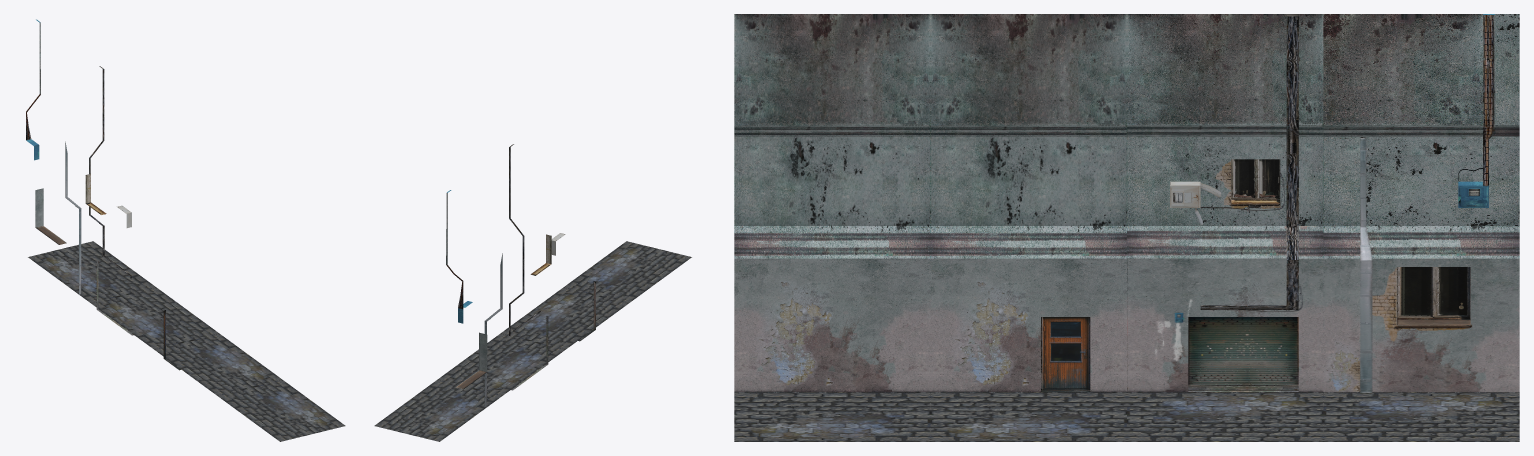
File: street-frontages.glb
3 renders of one model, left to right at view 1: azimuth 30°, elevation 25°; view 2: azimuth 150°, elevation 25°; view 3: azimuth 270°, elevation 25°, orthographic. The views are drawn at different scales.
Visible parts, largest first — view 1: Ground_01_Ground01_0, Ground_02_Ground01_0, Ground_03_Ground01_0, Ground_04_Ground01_0, WallWindow_01_DownWall_Window_0, UpWallStore_01_Upwall-Store_0, UpWallWindow_01_UpWall-Window_0, WallStore_01_DownWall-Store_0; view 2: Ground_01_Ground01_0, Ground_04_Ground01_0, Ground_02_Ground01_0, Ground_03_Ground01_0, UpWallStore_01_Upwall-Store_0, WallWindow_01_DownWall_Window_0, UpWallWindow_01_UpWall-Window_0, WallStore_01_DownWall-Store_0; view 3: UpWallWindow_01_UpWall-Window_0, UpWallStore_01_Upwall-Store_0, UpWallDoor_02_UpWall-Simple_0, UpWallDoor_02.001_UpWall-Simple_0, WallDoor_02.005_Down-Simple_0, WallDoor_02.001_Down-w-simpleDoor_0, WallWindow_01_DownWall_Window_0, WallStore_01_DownWall-Store_0, Ground_02_Ground01_0, Ground_03_Ground01_0, Ground_01_Ground01_0, Ground_04_Ground01_0.
Boxes of the visible parts, box(x1,y1,x2,y2) form: Ground_01_Ground01_0: box(217, 380, 345, 441); Ground_02_Ground01_0: box(154, 333, 282, 395); Ground_03_Ground01_0: box(91, 287, 219, 349); Ground_04_Ground01_0: box(28, 241, 155, 303); WallWindow_01_DownWall_Window_0: box(35, 188, 81, 294); UpWallStore_01_Upwall-Store_0: box(85, 66, 131, 227); UpWallWindow_01_UpWall-Window_0: box(26, 19, 80, 208); WallStore_01_DownWall-Store_0: box(96, 223, 133, 335); Ground_01_Ground01_0: box(564, 241, 691, 303); Ground_04_Ground01_0: box(374, 380, 502, 441); Ground_02_Ground01_0: box(500, 287, 628, 349); Ground_03_Ground01_0: box(437, 333, 565, 395); UpWallStore_01_Upwall-Store_0: box(509, 144, 565, 303); WallWindow_01_DownWall_Window_0: box(456, 321, 487, 407); UpWallWindow_01_UpWall-Window_0: box(446, 190, 502, 323); WallStore_01_DownWall-Store_0: box(509, 302, 548, 390); UpWallWindow_01_UpWall-Window_0: box(1323, 14, 1519, 260); UpWallStore_01_Upwall-Store_0: box(1127, 14, 1323, 259); UpWallDoor_02_UpWall-Simple_0: box(930, 14, 1126, 258); UpWallDoor_02.001_UpWall-Simple_0: box(734, 14, 930, 258); WallDoor_02.005_Down-Simple_0: box(734, 258, 930, 392); WallDoor_02.001_Down-w-simpleDoor_0: box(930, 258, 1126, 392); WallWindow_01_DownWall_Window_0: box(1323, 258, 1519, 393); WallStore_01_DownWall-Store_0: box(1127, 258, 1323, 392); Ground_02_Ground01_0: box(930, 392, 1126, 441); Ground_03_Ground01_0: box(1127, 392, 1323, 441); Ground_01_Ground01_0: box(734, 392, 930, 441); Ground_04_Ground01_0: box(1323, 392, 1519, 441).
Size of the model in its own units: 620 by 1700 by 3200.
8 materials, 8 textured.
